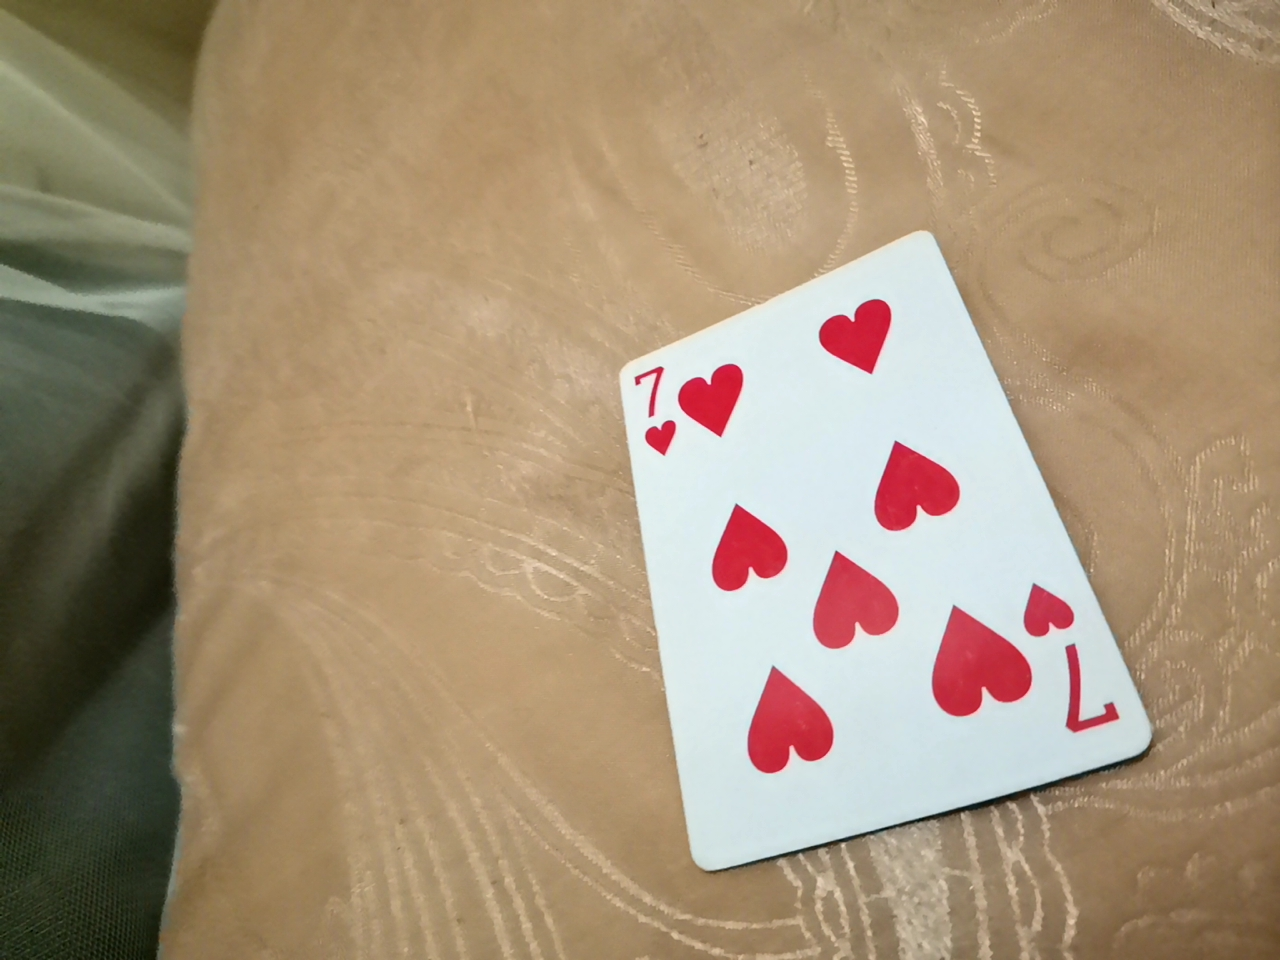hx 7: (588, 240, 1148, 877)
